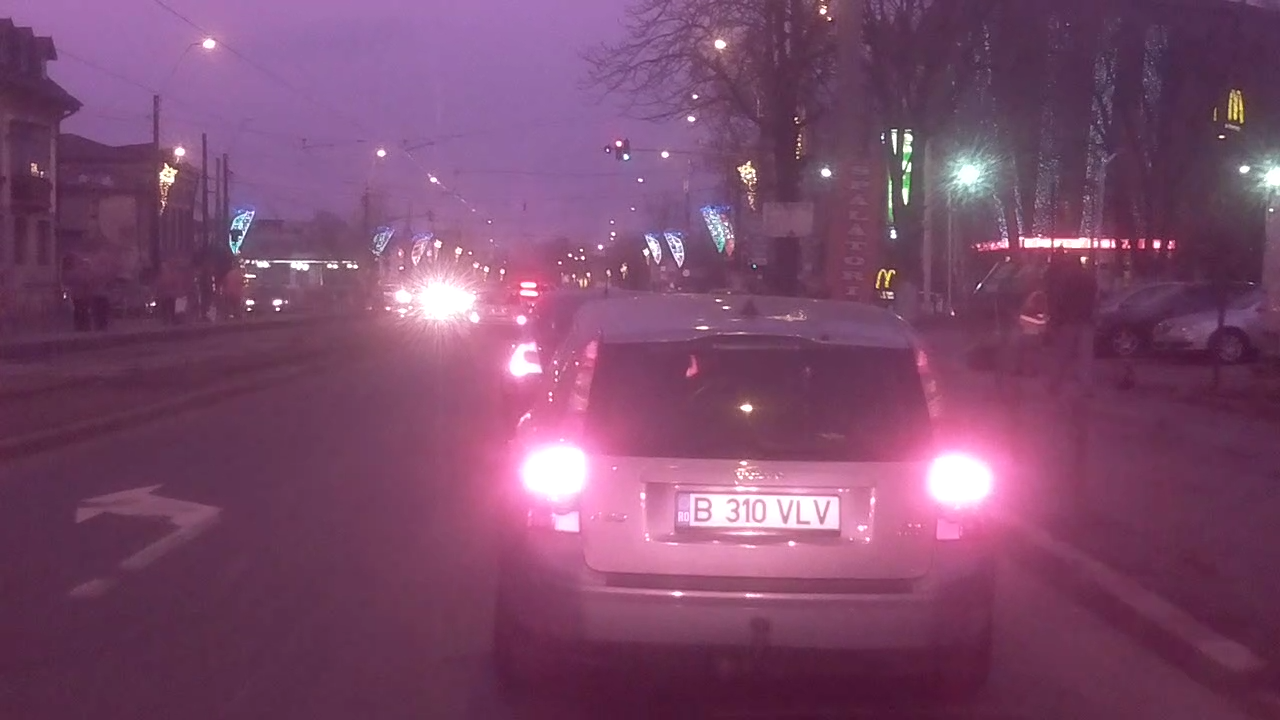license-plate: (670, 485, 845, 536)
